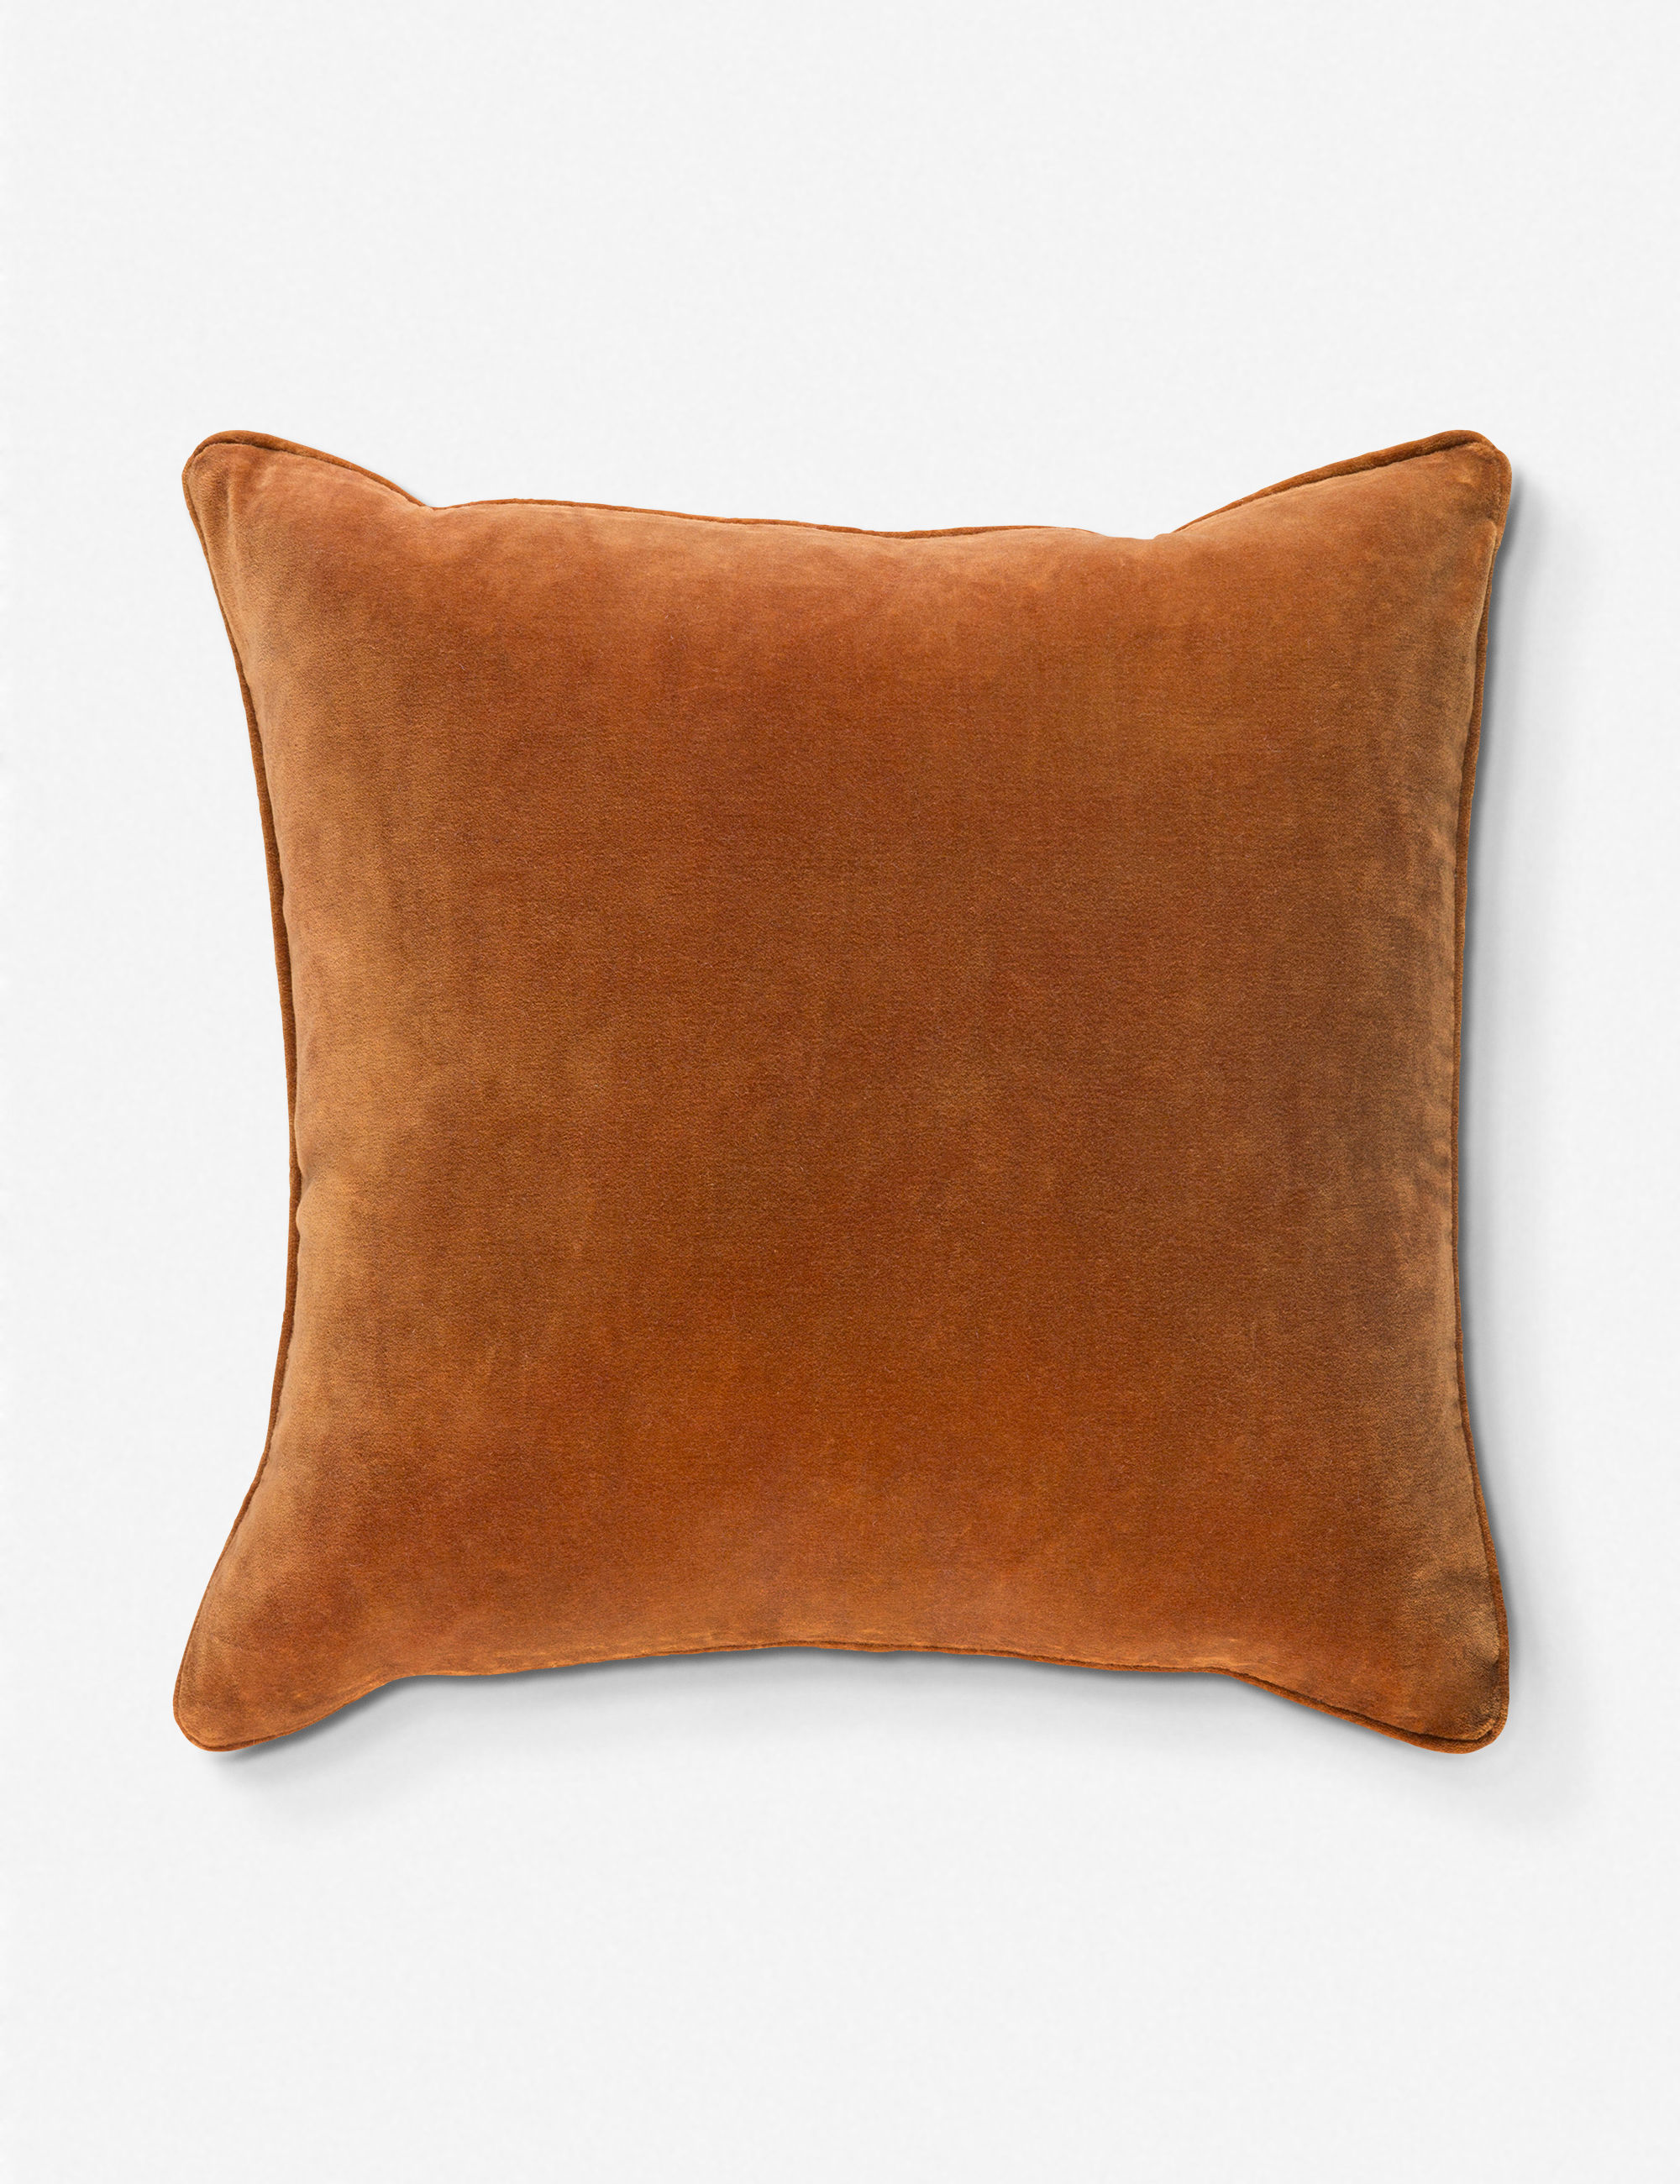bantal: (106, 268, 1565, 1787)
